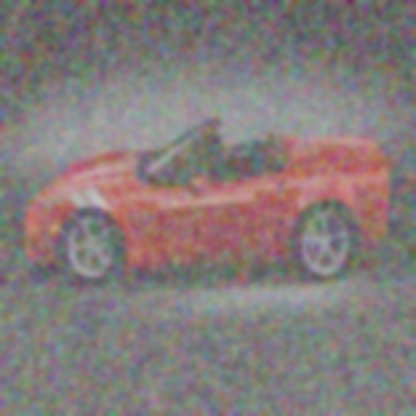Vehicle: (24, 117, 392, 287)
